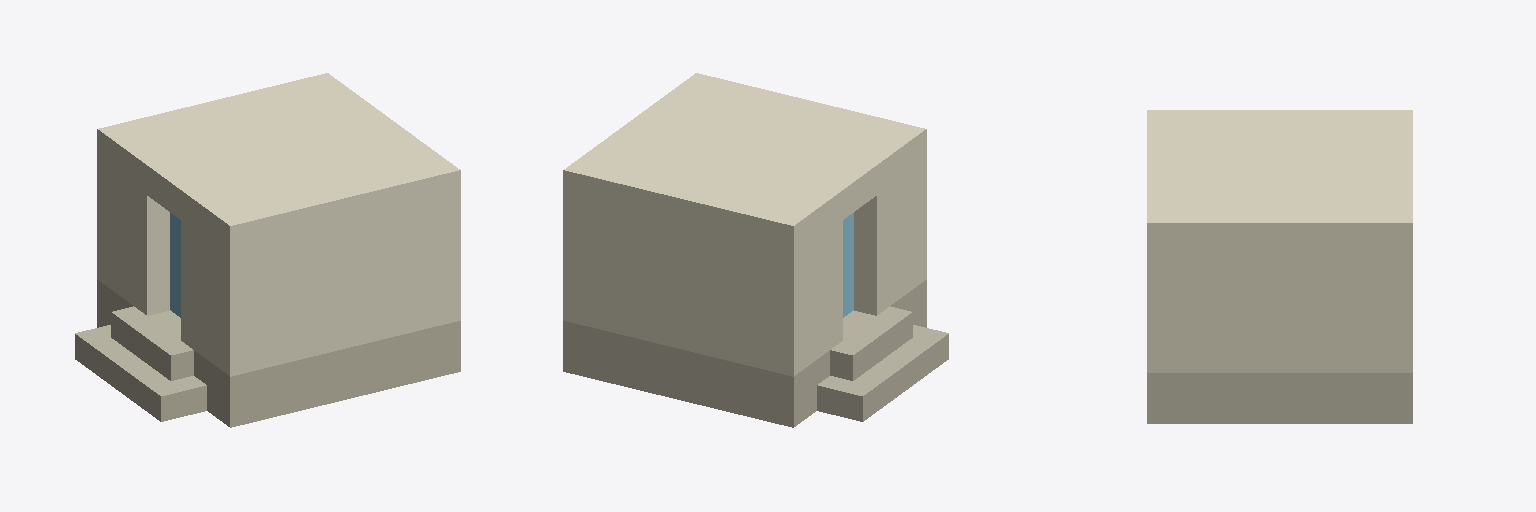
File: basement3.obj
3 renders of one model, left to right at view 1: azimuth 30°, elevation 25°; view 2: azimuth 150°, elevation 25°; view 3: azimuth 270°, elevation 25°, orthographic.
Parts seen in each view (by area): view 1: basement3; view 2: basement3; view 3: basement3.
Boxes of the visible parts, box(x1,y1,x2,y2) form: basement3: box(75, 73, 460, 427); basement3: box(563, 73, 948, 427); basement3: box(1147, 110, 1412, 423).
Bounding box in the file's own units: 1.2 × 0.8375 × 1.